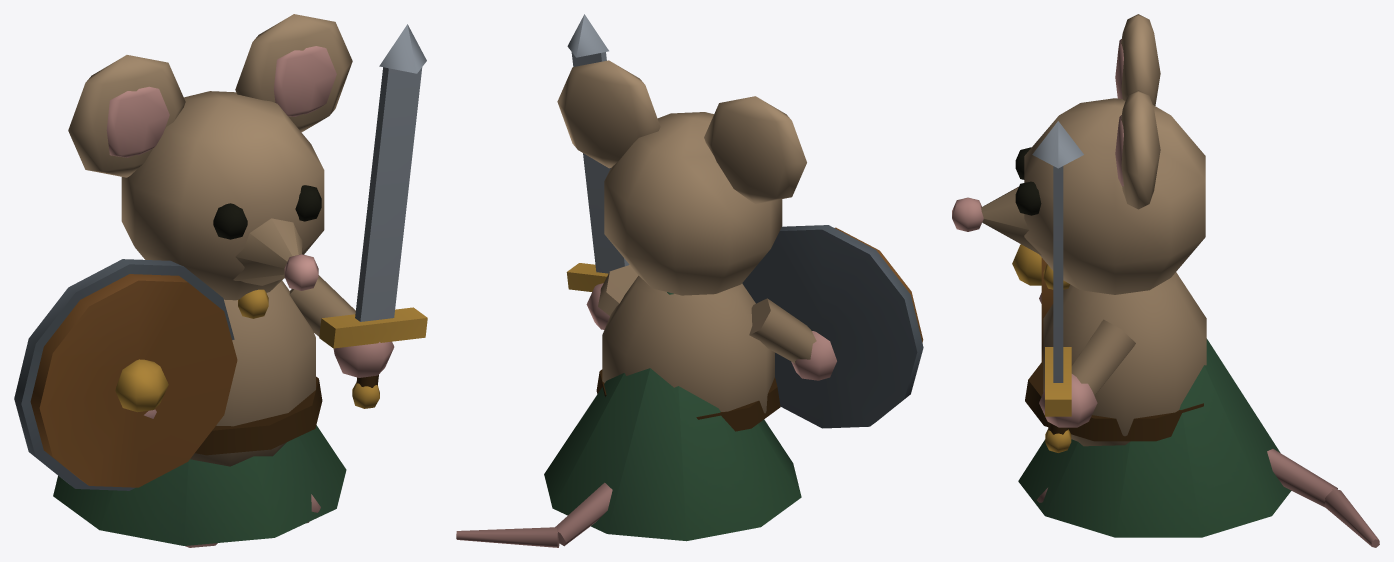
The model's file is mouse-adventurer.glb.
The picture shows the model from 3 angles, left to right: view 1: azimuth 30°, elevation 25°; view 2: azimuth 150°, elevation 25°; view 3: azimuth 270°, elevation 25°; orthographic projection. The views are drawn at different scales.
Parts seen in each view (by area): view 1: mouse_adventurer_model; view 2: mouse_adventurer_model; view 3: mouse_adventurer_model.
Boxes of the visible parts, bbox=[...] form: mouse_adventurer_model: bbox=[14, 14, 427, 547]; mouse_adventurer_model: bbox=[456, 14, 923, 547]; mouse_adventurer_model: bbox=[952, 14, 1379, 547].
Bounding box in the file's own units: 1.31 × 1.48 × 1.28.
